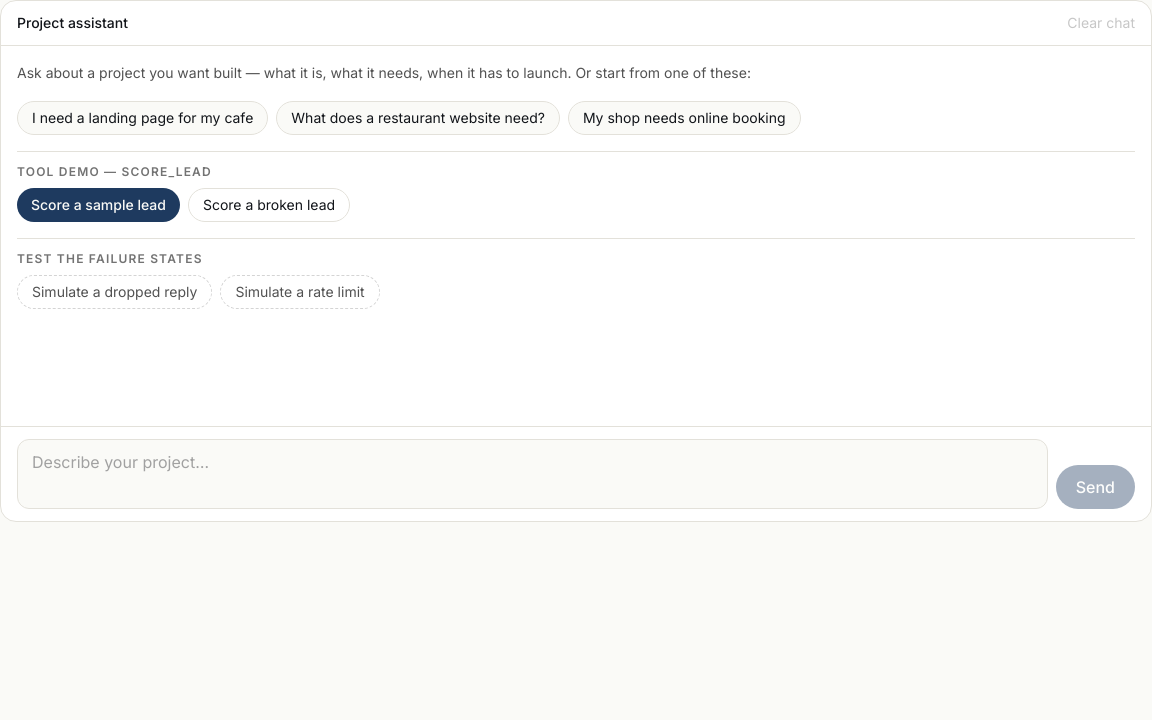
Test case: Chat › renders the tool lifecycle and lands on a ScoreCard
Click the button "Score a sample lead" at (98,205), box [17,188,180,222]
(page scrolled)
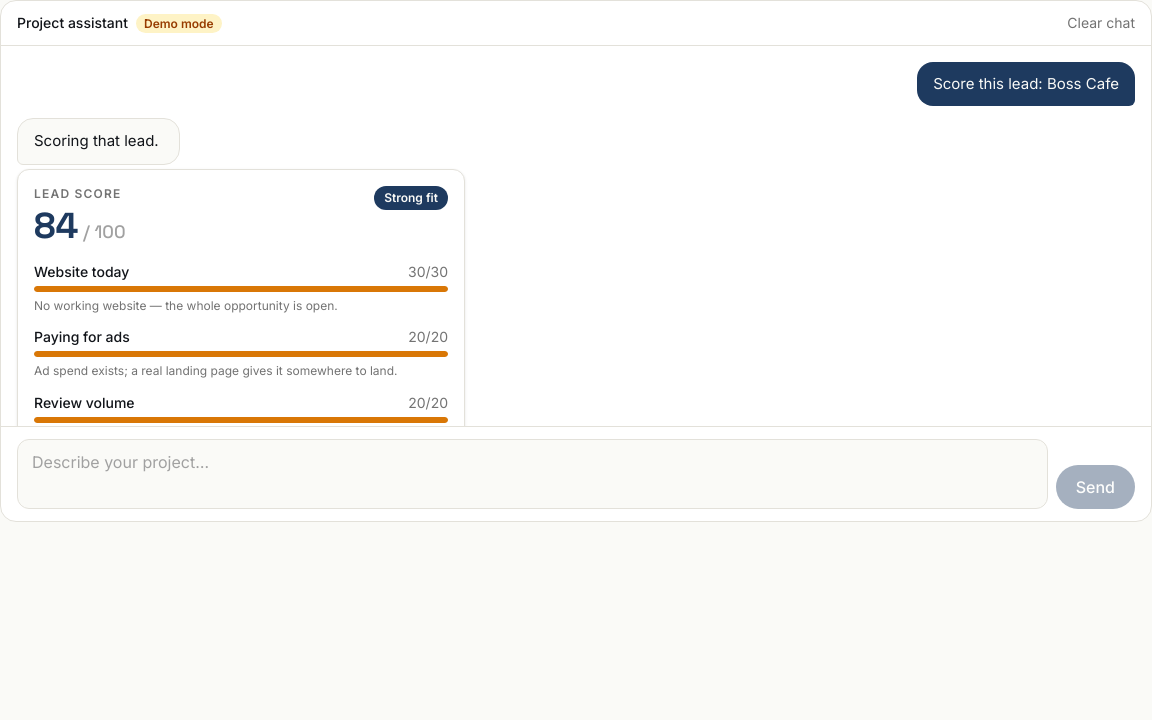
Expected: the text "Lead score" is shown, [34,186,126,202]
Result: the text "Strong fit" is shown at [374,186,448,210]
Result: the text "84" is shown at [34,203,78,249]
